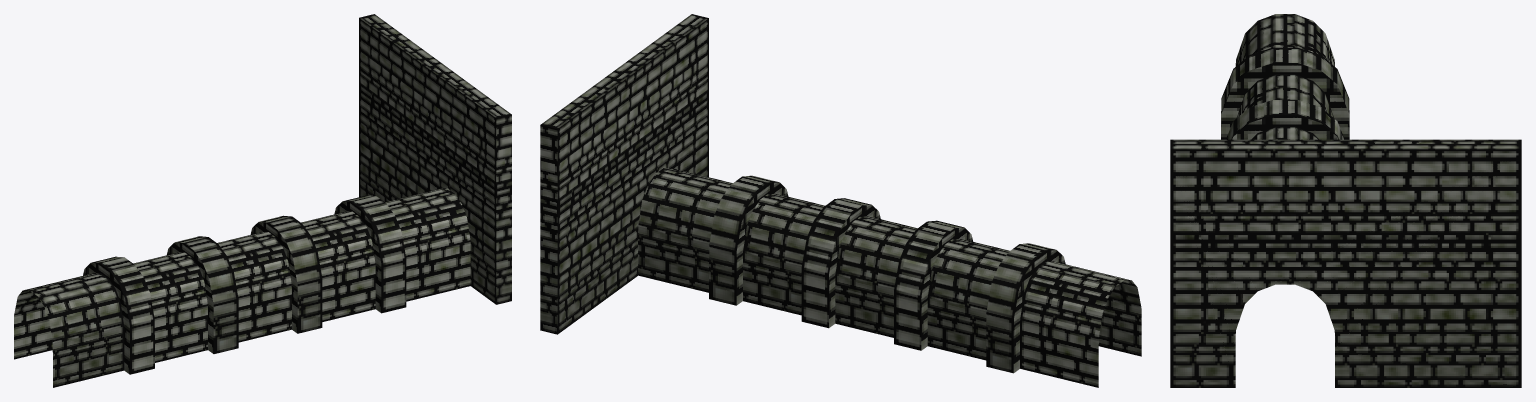
The model's file is Wall_Tunnel.fbx.
3 views of the same model, side by side, from view 1: azimuth 30°, elevation 25°; view 2: azimuth 150°, elevation 25°; view 3: azimuth 270°, elevation 25° (orthographic). The views are drawn at different scales.
Visible parts, largest first — view 1: Wall.008; view 2: Wall.008; view 3: Wall.008.
Boxes of the visible parts, box(x1,y1,x2,y2) form: Wall.008: box(14, 14, 511, 387); Wall.008: box(540, 14, 1141, 387); Wall.008: box(1170, 14, 1521, 387).
Size of the model in its own units: 3626 by 1491 by 1991.
1 material, 1 textured.
